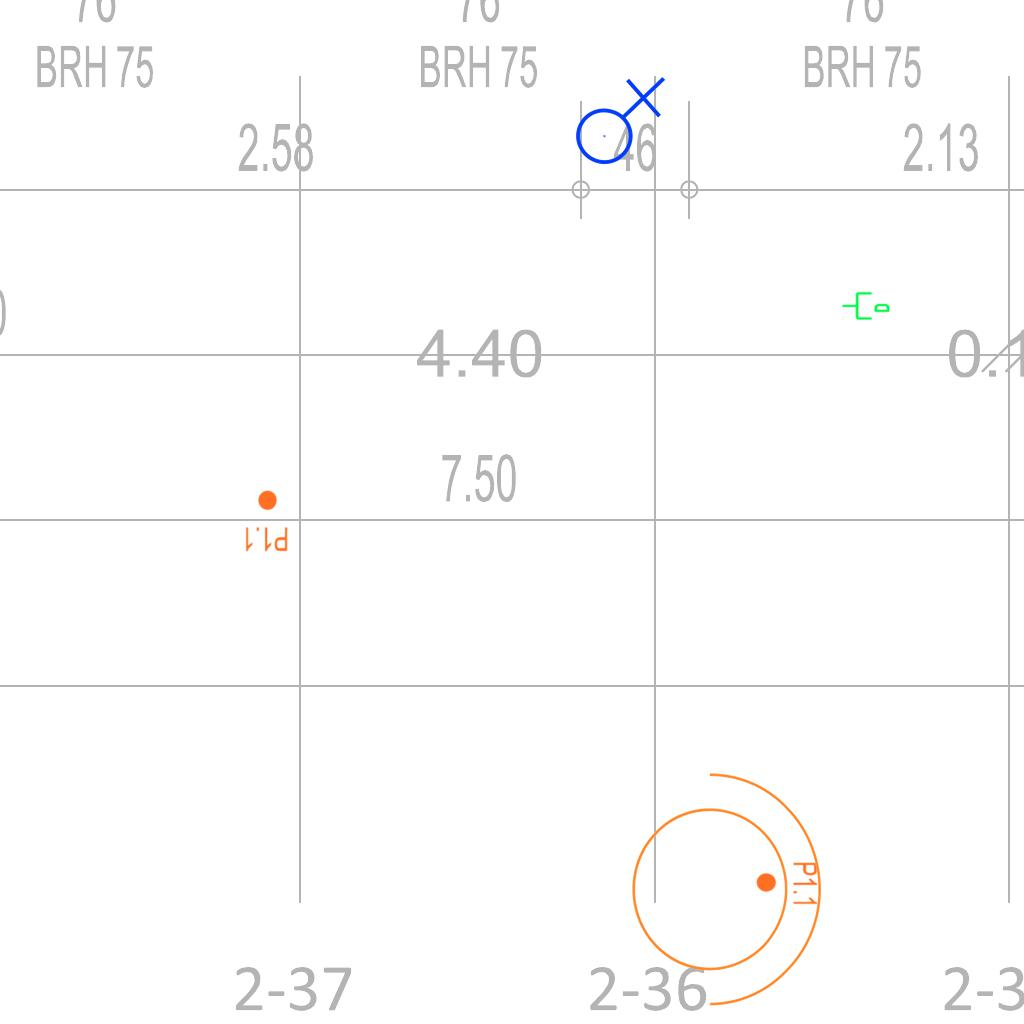Datenanschluss_einfach: (841, 288, 891, 322)
Downlight_LED_Einbauleuchten_Flur: (755, 861, 819, 907), (243, 489, 289, 553)
Elektroanschluss_allgemein_230V_Geraeteanschlussdose_230V: (567, 72, 666, 166)
Scheinwerfer_fuer_Alarmbeleuchtung: (607, 751, 832, 1015)
